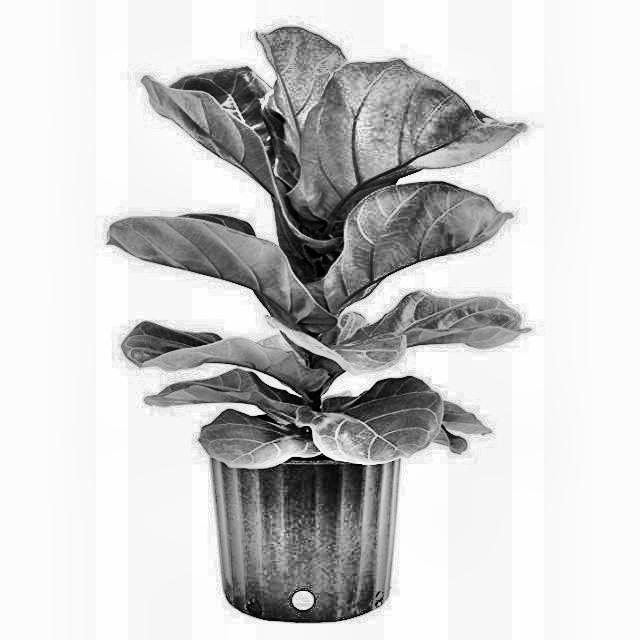plants: (109, 25, 518, 623)
